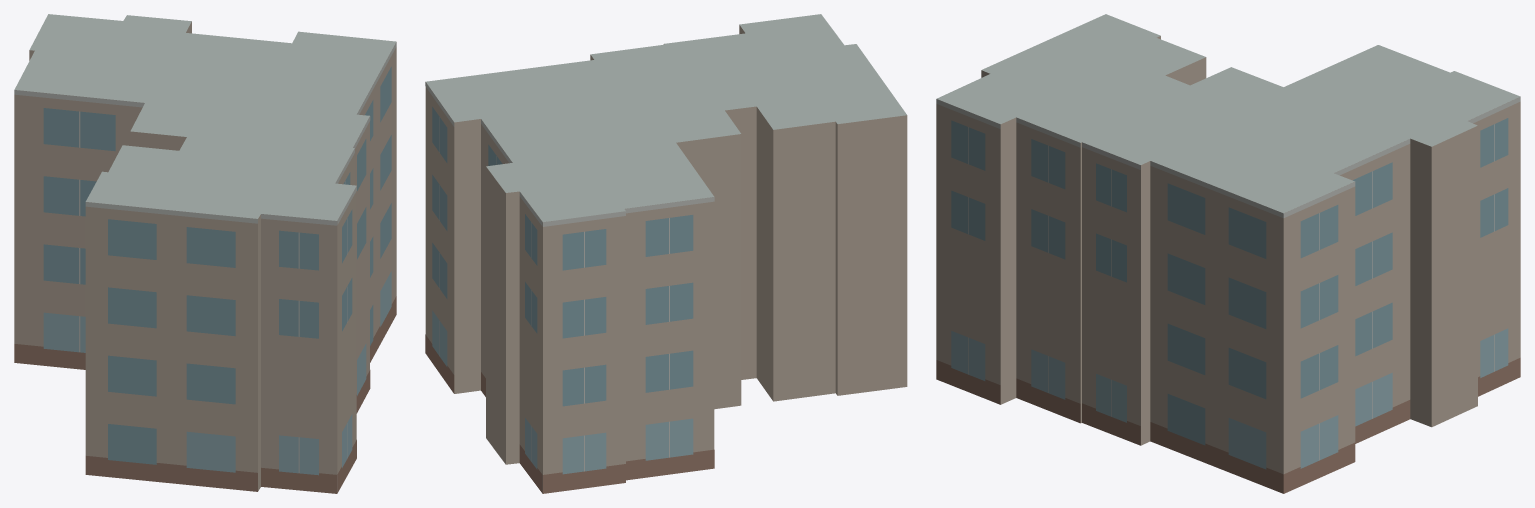
Rendered from survey-upis-33006610.glb.
3 renders of one model, left to right at view 1: azimuth 30°, elevation 25°; view 2: azimuth 150°, elevation 25°; view 3: azimuth 270°, elevation 25°, orthographic. The views are drawn at different scales.
Parts seen in each view (by area): view 1: survey-upis-33006610.tmp; view 2: survey-upis-33006610.tmp; view 3: survey-upis-33006610.tmp.
Boxes of the visible parts, bbox=[...] form: survey-upis-33006610.tmp: bbox=[14, 14, 396, 493]; survey-upis-33006610.tmp: bbox=[425, 14, 907, 493]; survey-upis-33006610.tmp: bbox=[936, 14, 1520, 493].
Bounding box in the file's own units: 21.19 × 13.9 × 26.25.
